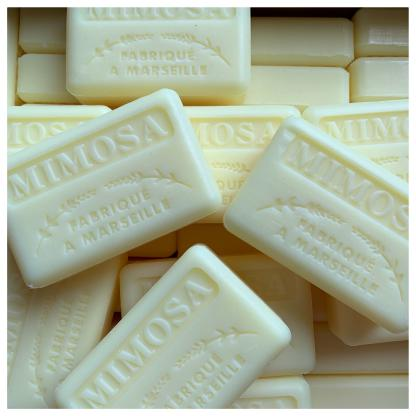soap: (0, 90, 224, 300), (221, 109, 415, 336), (50, 242, 300, 415), (57, 0, 255, 109)
